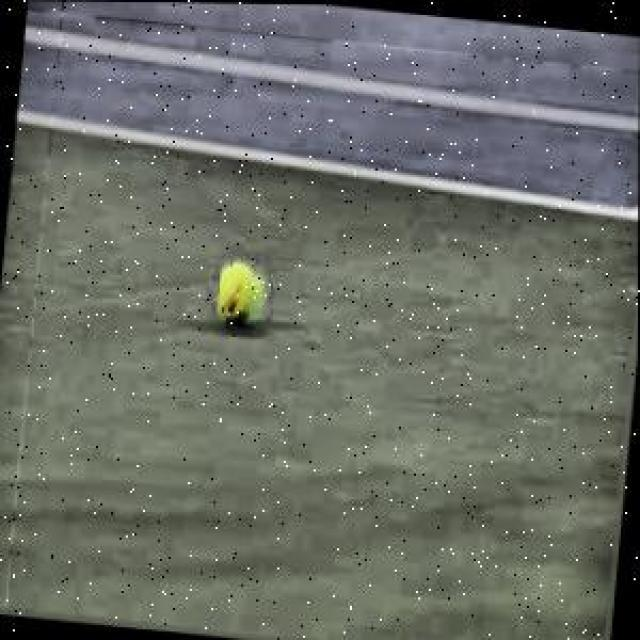tennis-ball: (216, 259, 264, 328)
